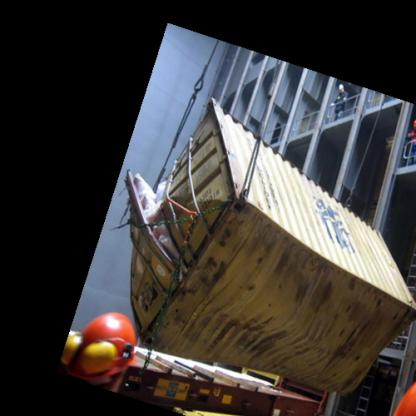Damage: (272, 228, 380, 330), (120, 160, 205, 289), (208, 311, 298, 369)
